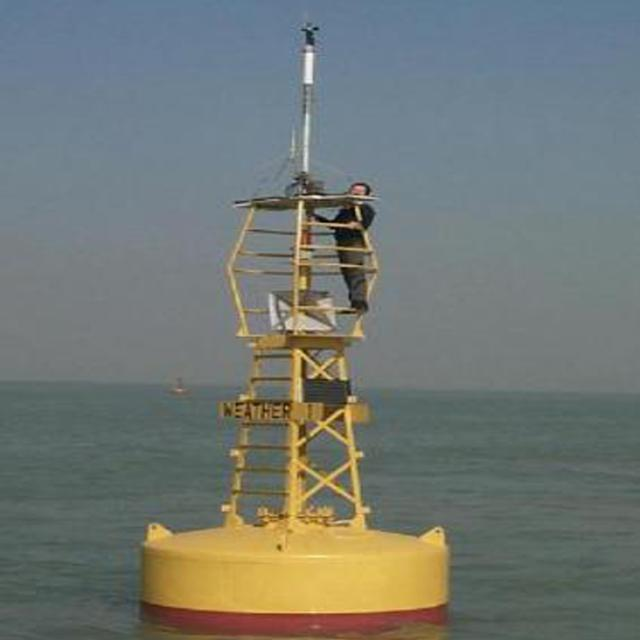buoy: (140, 15, 460, 636)
